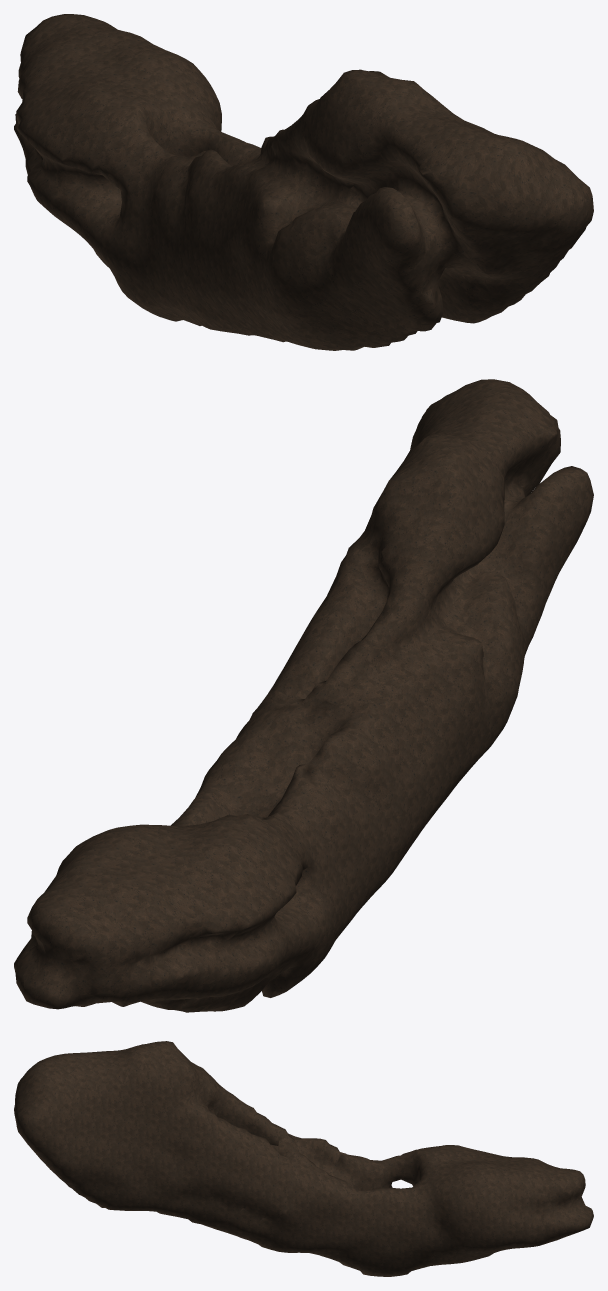
Rendered from asteroids.glb.
3 renders of one model, top to bottom at view 1: azimuth 30°, elevation 25°; view 2: azimuth 150°, elevation 25°; view 3: azimuth 270°, elevation 25°, orthographic. The views are drawn at different scales.
Parts seen in each view (by area): view 1: asteroid_brown_4; view 2: asteroid_brown_4; view 3: asteroid_brown_4.
Part boxes in pixels (bbox=[...]): asteroid_brown_4: bbox=[14, 14, 593, 350]; asteroid_brown_4: bbox=[14, 379, 593, 1012]; asteroid_brown_4: bbox=[14, 1041, 593, 1276].
Size of the model in its own units: 12.94 by 21.8 by 50.31.
Materials: 1 (1 with a texture image).
